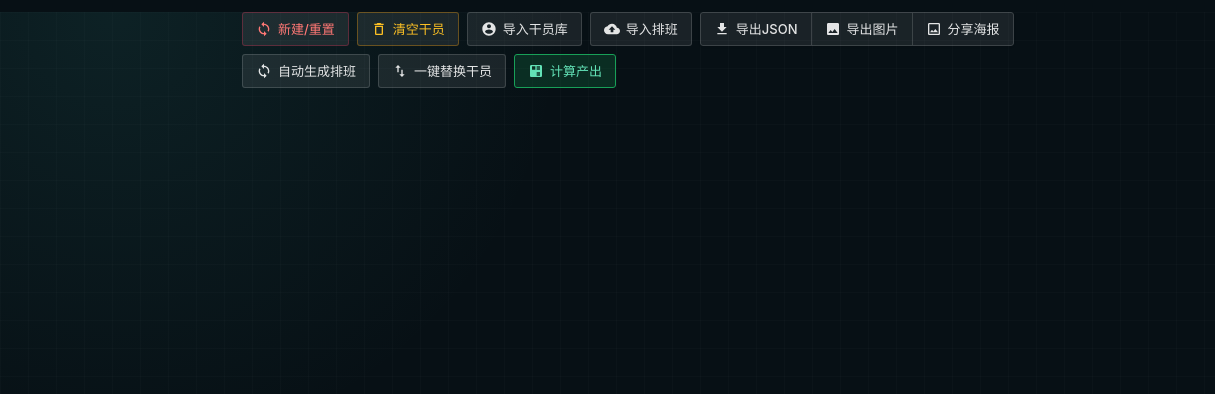
Scenario: PlanToolbar.vue › JSON Export › exports current workspace to UTF-8 json named after plan name and shows success banner
Click the button with test id "export-json-btn" at x=756, y=29, box [700, 12, 812, 46]
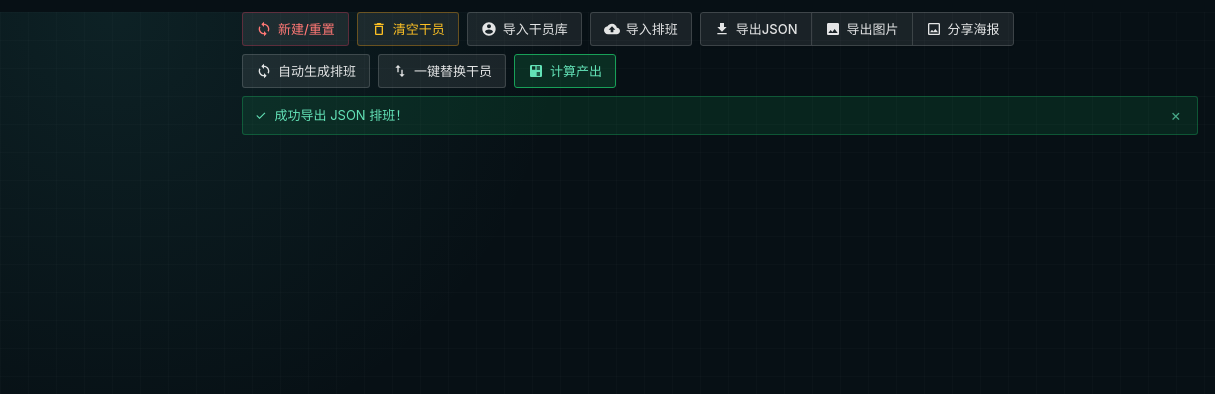
expect the element with test id "status-message" is shown: met, box [242, 96, 1198, 135]
expect the element with test id "status-message" shows "成功导出 JSON 排班！": met, box [274, 107, 408, 123]
